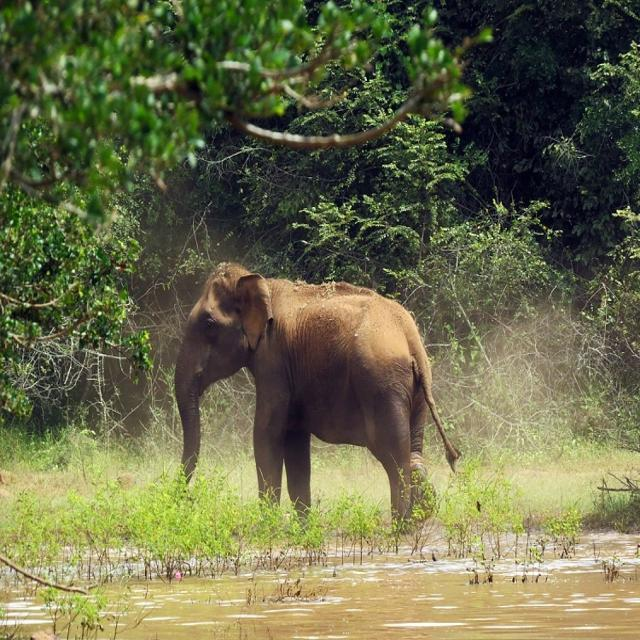Elephant: (125, 246, 452, 524)
